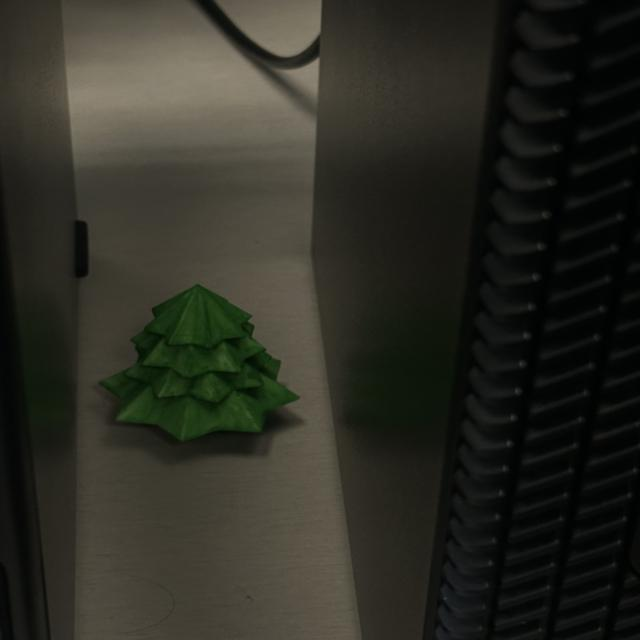tree: (97, 281, 301, 443)
